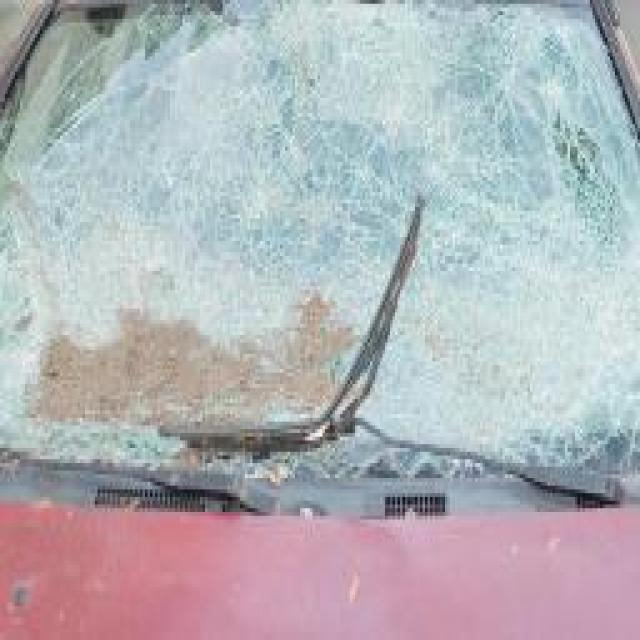Windshield: (0, 0, 640, 489)
